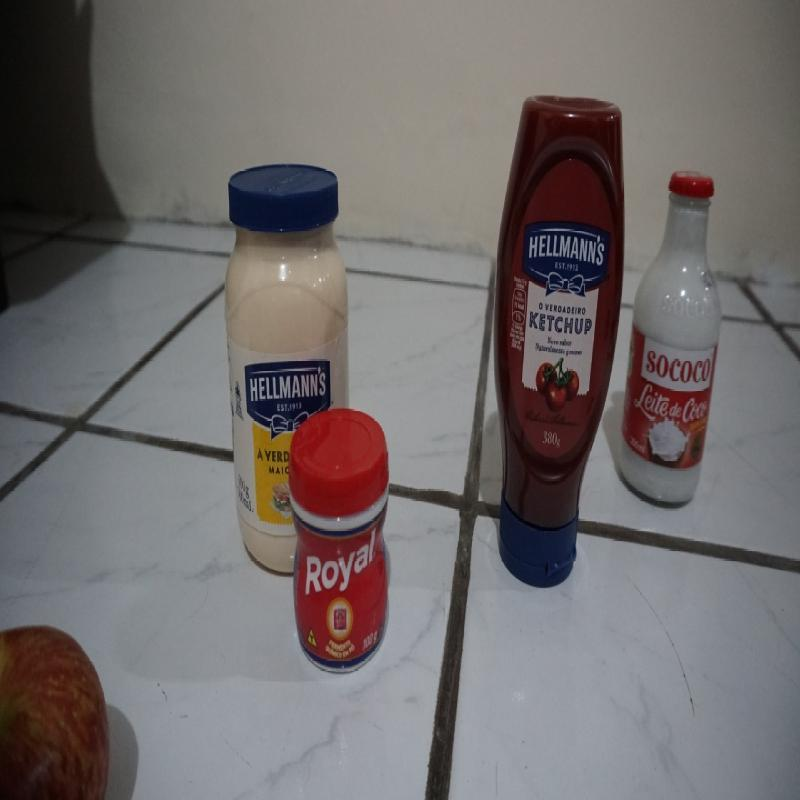Apple: (2, 617, 114, 796)
Coconut Milk: (627, 160, 726, 514)
Ketchup: (484, 91, 622, 600)
Mayonnaise: (290, 412, 392, 676)
Yeast: (228, 165, 352, 405)
